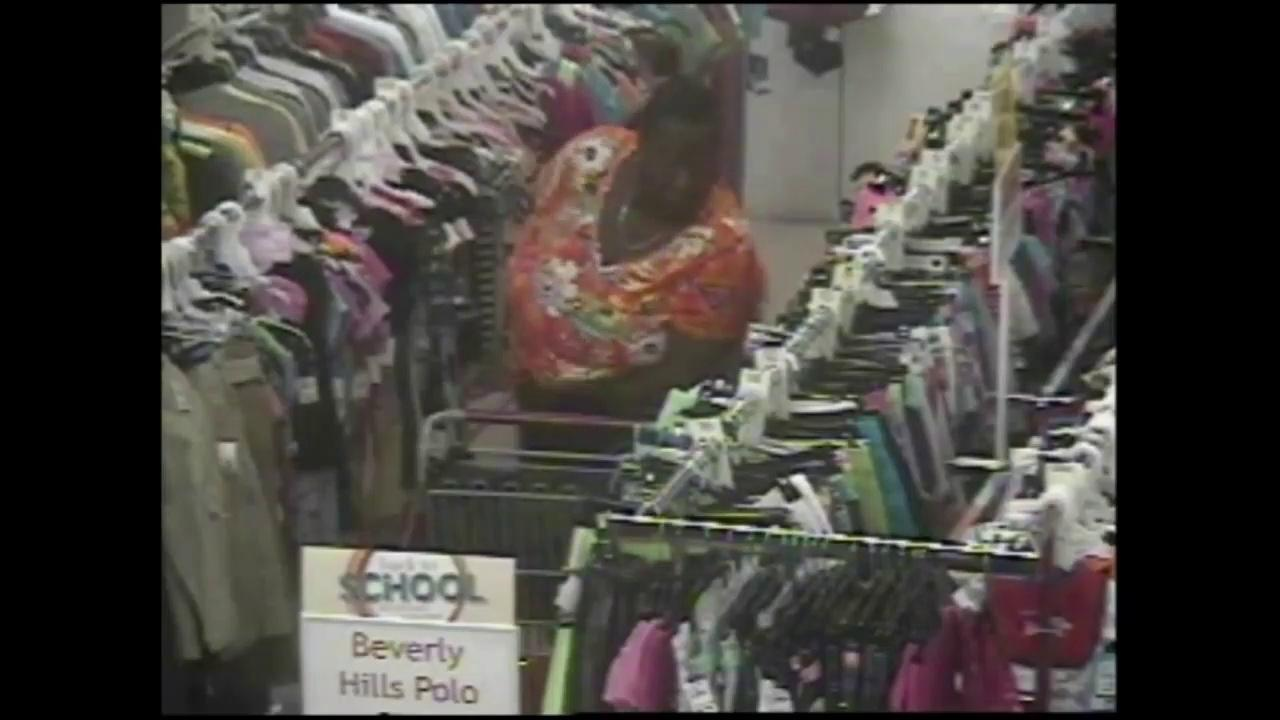Shoplifting: (460, 7, 778, 425)
Shopping-Cart: (420, 378, 653, 558)
